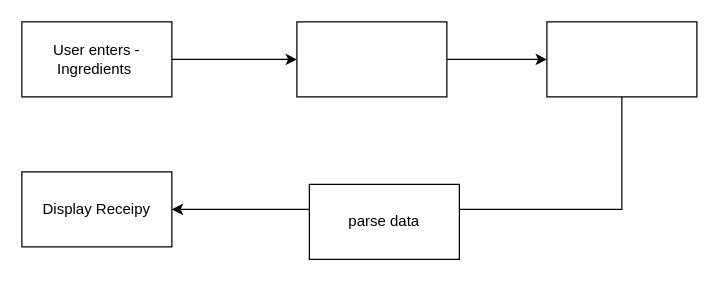
Some shapes in this 719 by 281 pixel diagram are drawn without their labels. Here are the shapes that lost their labels. From the top down, the centre of each, then its label:
At point (371, 59): "Your Project".
At point (621, 59): "API FindReceipie".
